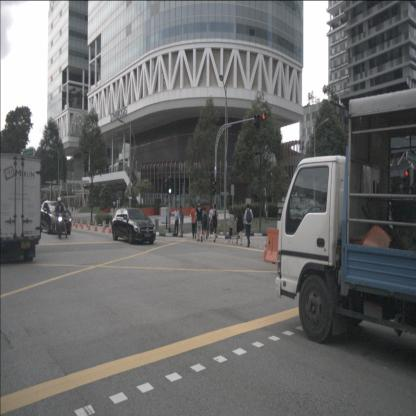barrier: (265, 227, 297, 266)
cone: (261, 238, 269, 261), (108, 221, 112, 234), (94, 220, 98, 232), (87, 220, 91, 231), (102, 220, 105, 234), (86, 218, 90, 227), (80, 220, 84, 229), (75, 218, 78, 229), (79, 217, 82, 226), (104, 220, 106, 230), (73, 217, 75, 226)
